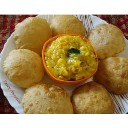poori: (4, 50, 42, 88), (24, 86, 72, 114), (13, 17, 51, 52), (72, 84, 114, 115), (89, 24, 125, 57), (98, 58, 127, 93), (50, 15, 86, 36)
